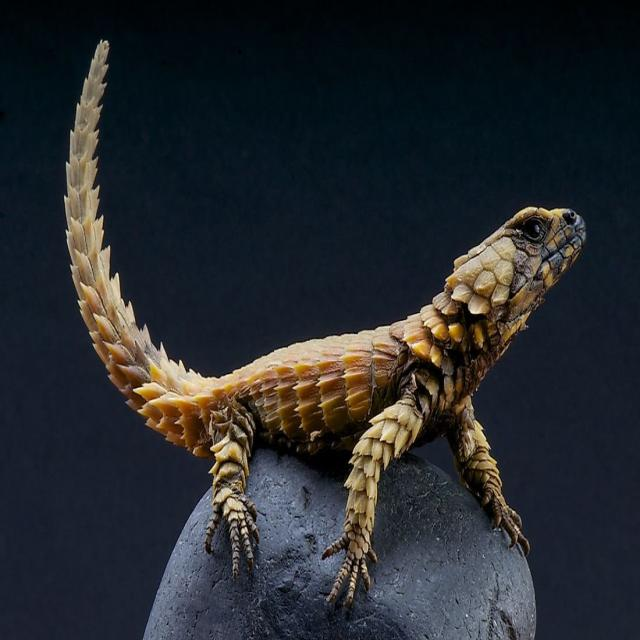Lizard: (59, 30, 590, 589)
